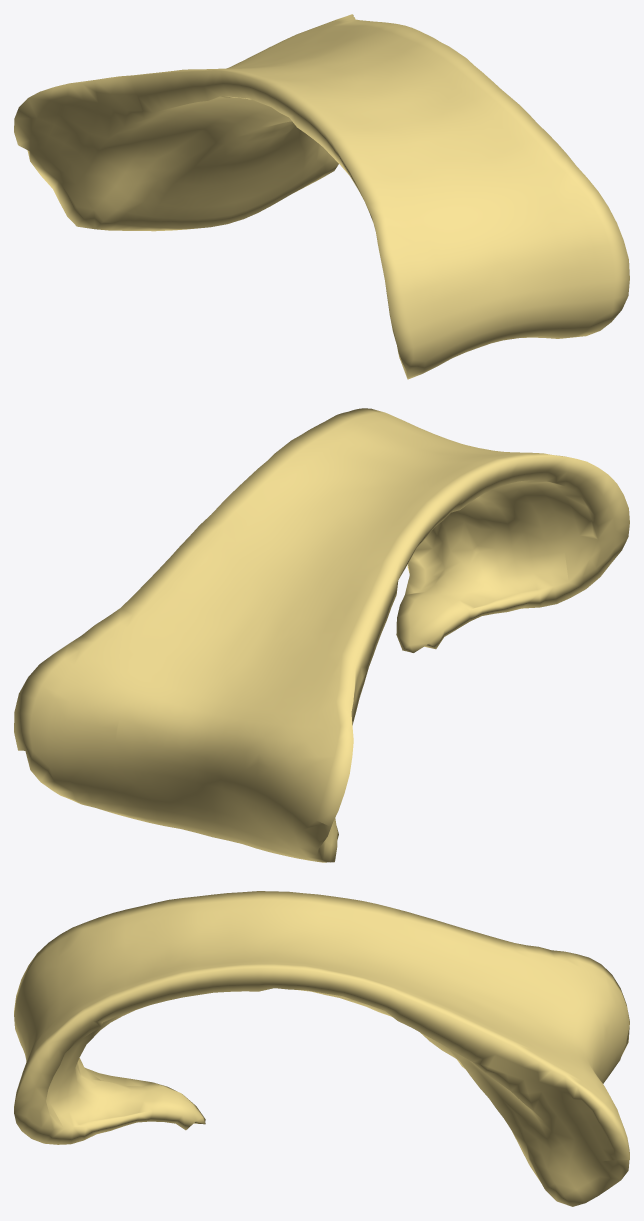
3 views of the same model, one above another, from view 1: azimuth 30°, elevation 25°; view 2: azimuth 150°, elevation 25°; view 3: azimuth 270°, elevation 25° (orthographic). The views are drawn at different scales.
Visible parts, largest first — view 1: ZA_a9236e040eba963a; view 2: ZA_a9236e040eba963a; view 3: ZA_a9236e040eba963a.
Part boxes in pixels (box(x1,y1,x2,y2)): ZA_a9236e040eba963a: box(14, 14, 629, 379); ZA_a9236e040eba963a: box(14, 408, 629, 862); ZA_a9236e040eba963a: box(14, 891, 629, 1206).
Bounding box in the file's own units: 0.05 × 0.0377 × 0.0888.
